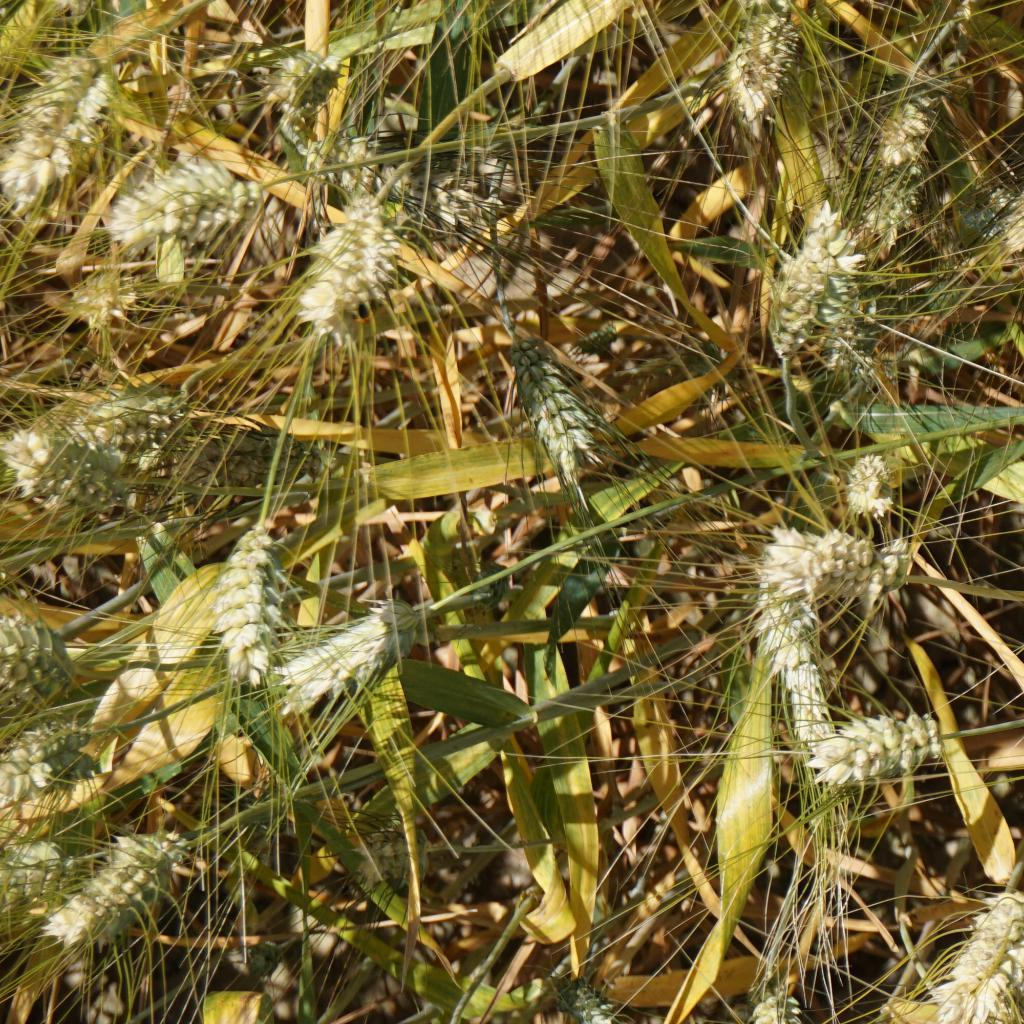0-0: (0, 40, 139, 221), (84, 145, 276, 251), (182, 518, 294, 681), (257, 594, 415, 695), (73, 831, 192, 959), (283, 204, 398, 323), (717, 4, 799, 152), (501, 332, 593, 459), (761, 219, 837, 371), (0, 426, 118, 516), (951, 882, 1024, 1024), (755, 593, 832, 726), (820, 709, 941, 790), (75, 376, 199, 447), (253, 44, 358, 119), (757, 531, 875, 594), (356, 816, 444, 892), (0, 832, 69, 924), (0, 727, 100, 788), (811, 243, 858, 367), (0, 612, 61, 706), (862, 171, 923, 260), (870, 91, 933, 174), (951, 180, 1024, 251), (323, 140, 398, 207), (546, 969, 635, 1024), (433, 166, 495, 230), (843, 456, 903, 522), (570, 314, 623, 371), (750, 980, 811, 1024), (713, 0, 809, 21)
